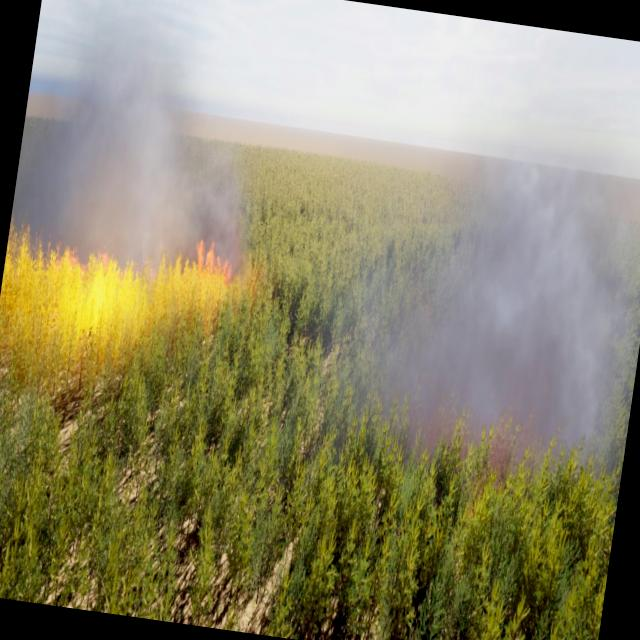fire: (0, 234, 215, 338), (192, 238, 236, 283)
smoke: (322, 49, 640, 476), (7, 0, 281, 280)
